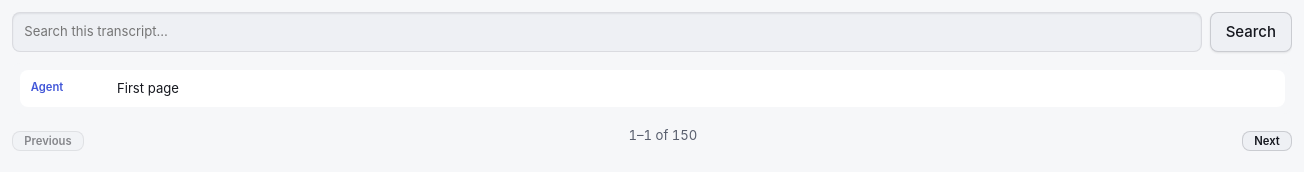
Test: TranscriptViewer › pages forward and back without refetching outside the requested window
The width and height of the screenshot is (1304, 172).
Expected: the text "First page" is shown, [117, 80, 179, 96]
Click the button "Next" at (1267,141), box [1242, 131, 1292, 151]
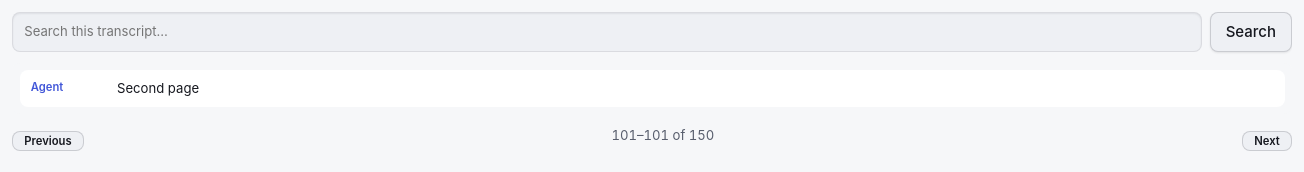
Result: the text "Second page" is shown at [117, 80, 199, 96]
